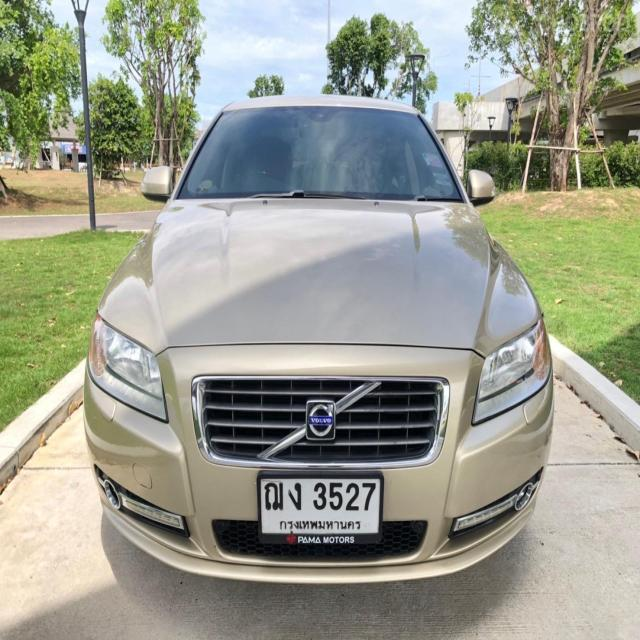license_plate: (255, 468, 384, 549)
